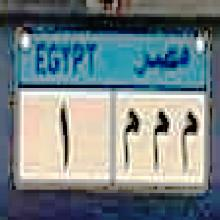1: (57, 98, 74, 175)
meem: (119, 106, 143, 178), (178, 102, 199, 178), (150, 104, 172, 174)
